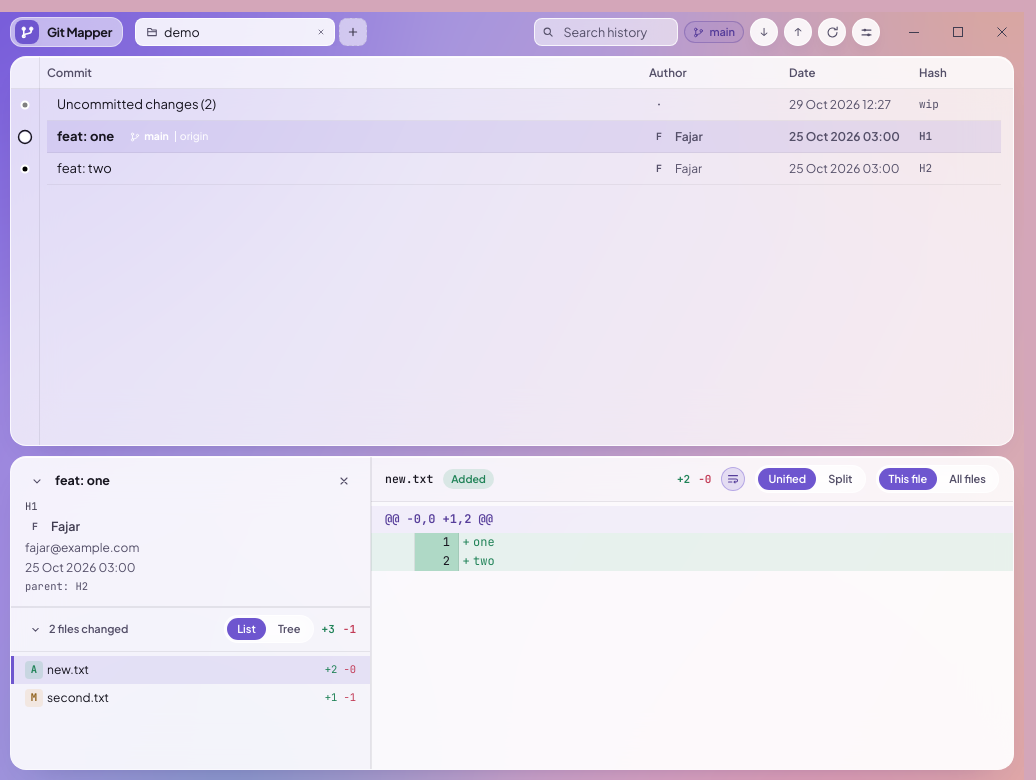
Test: opening a folder that is not a git repository shows a toast, repo open or not
Step 1. Click the button named "Open repository" → [353, 32], box [339,18,367,46]
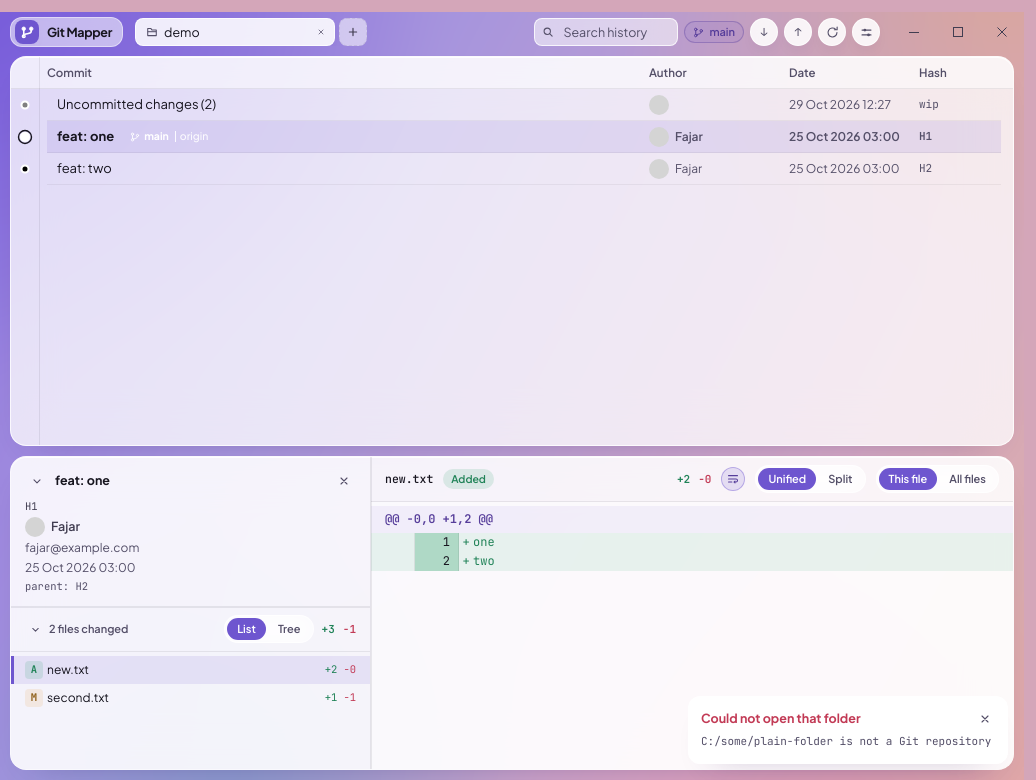
Expected: the message "Could not open that folder C:/some/plain-folder is not a Git repository" is shown, [688,696,1008,764]
